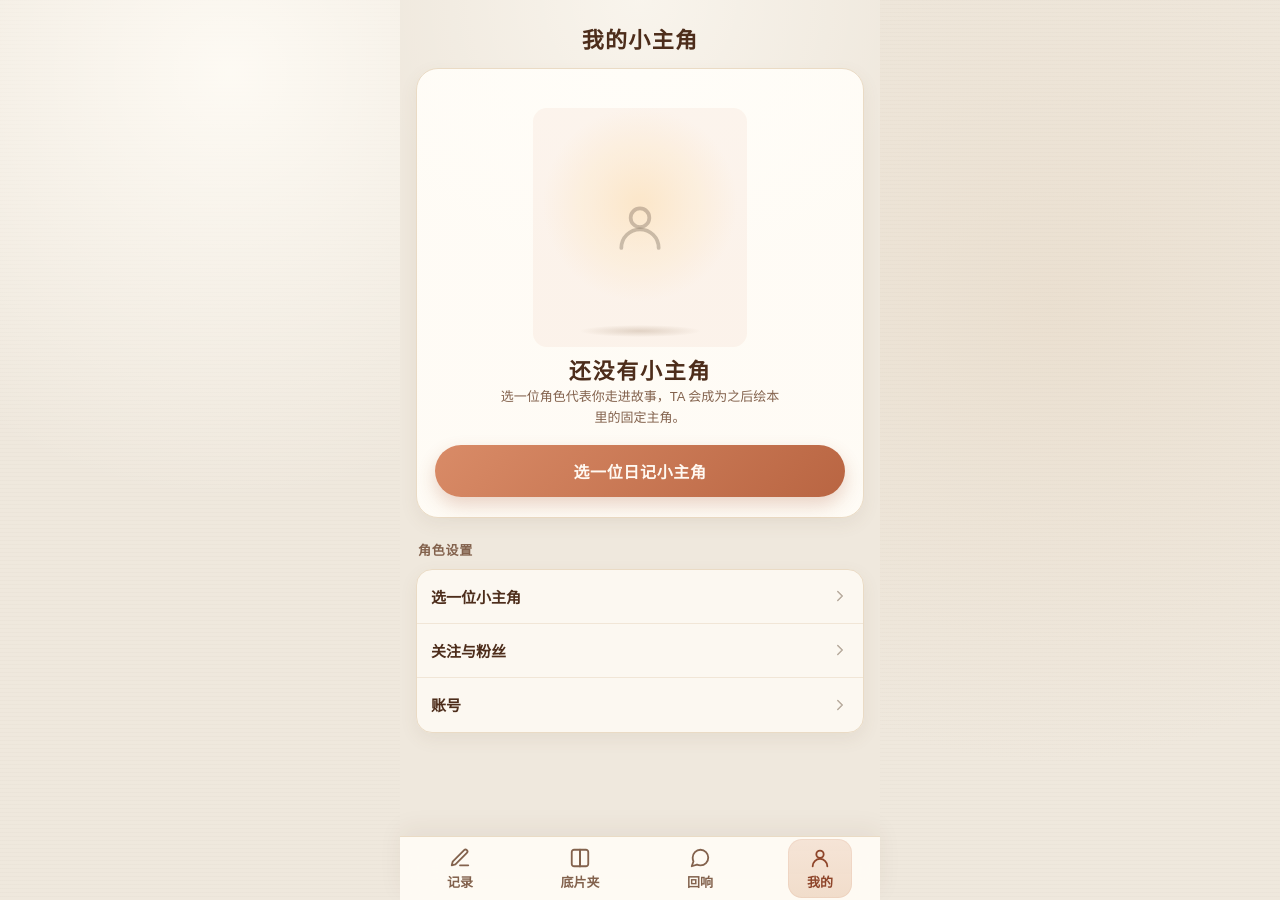
it: application identity and room states › Film folder has no draft box or global create menu; picturebook entry opens the choice sheet
What coordinates should you click on to do the following:
click the button "底片夹"
I would click on:
 (580, 868)
Its box is [548, 839, 612, 898].
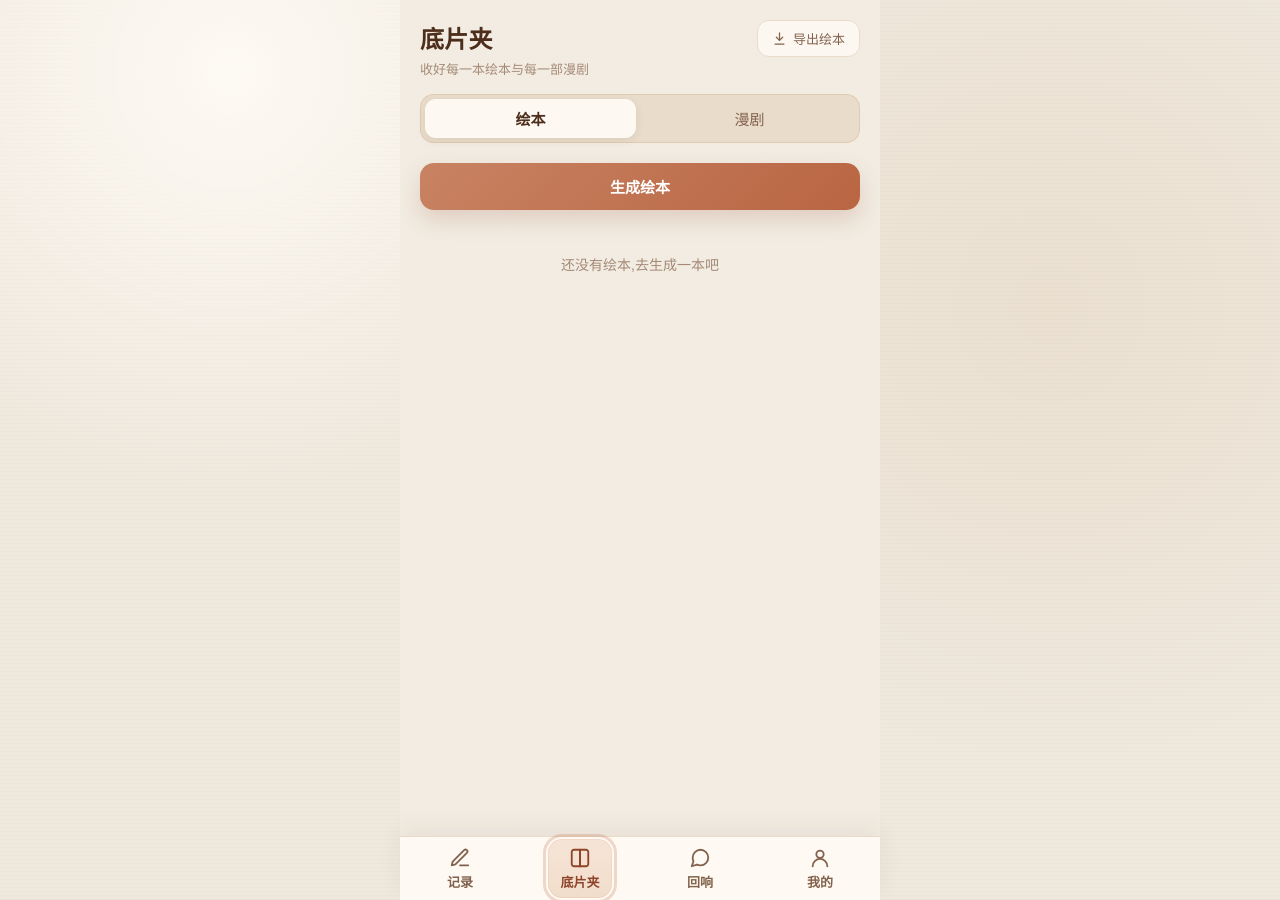
Expected: the heading "底片夹" is shown, [420, 26, 493, 53]
What coordinates should you click on to do the following:
click the button "生成绘本"
I would click on:
 (640, 186)
Its box is [420, 163, 860, 210].
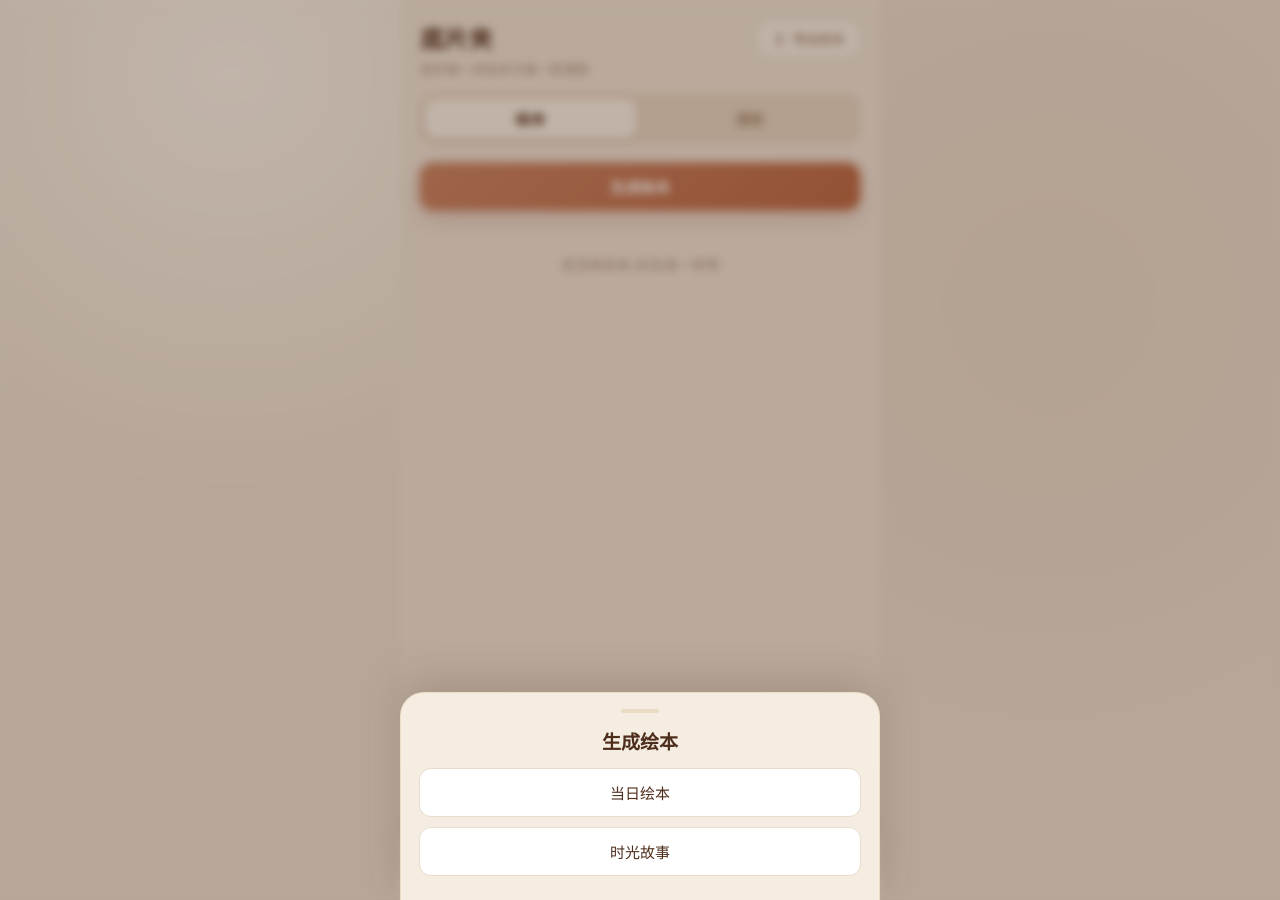
Expected: the button "当日绘本" is shown, [419, 768, 861, 817]
Expected: the button "时光故事" is shown, [419, 827, 861, 876]
